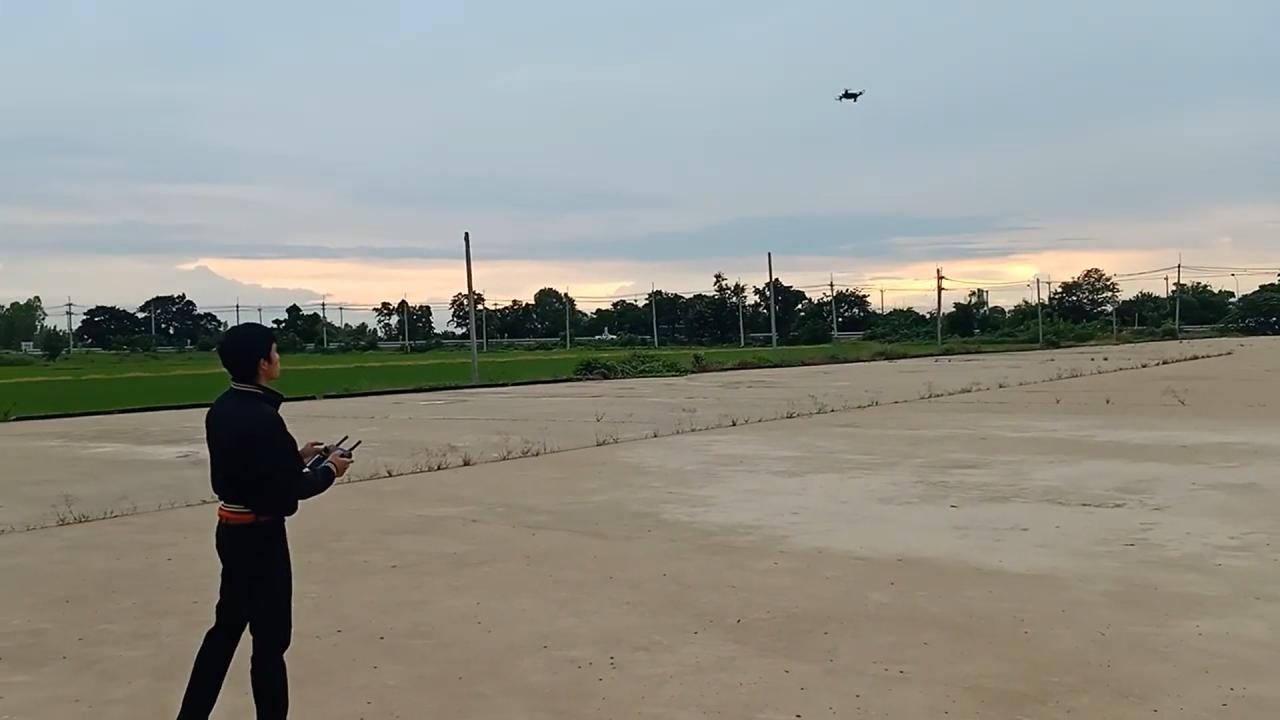Drone: (822, 80, 878, 112)
